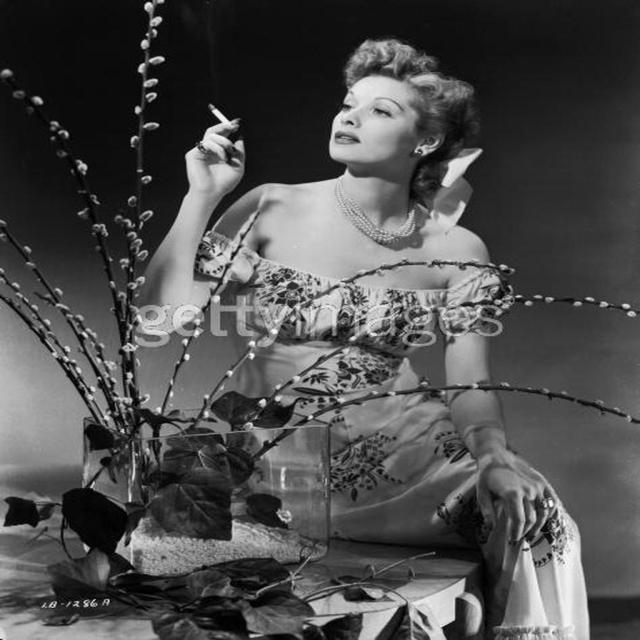smoking: (160, 42, 499, 196)
